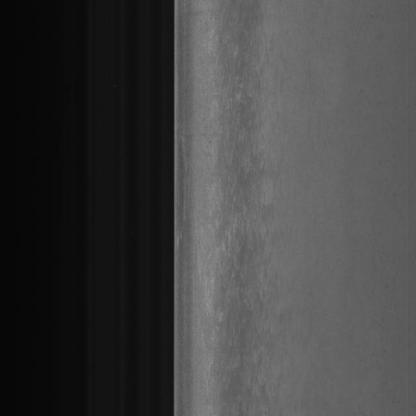silk_spot: (212, 43, 268, 376)
